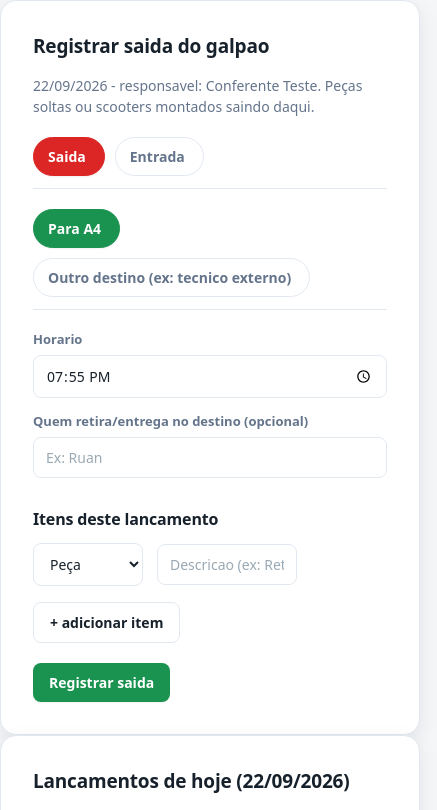
Test case: Montagem - montagem so pra veiculo inteiro › categoria de veiculo mostra montagem sem placeholder, comecando em "Em caixa"
The width and height of the screenshot is (437, 810).
Select "Scooter" in the dropdown at (88, 564), box x1=33 y1=543 x2=143 y2=586
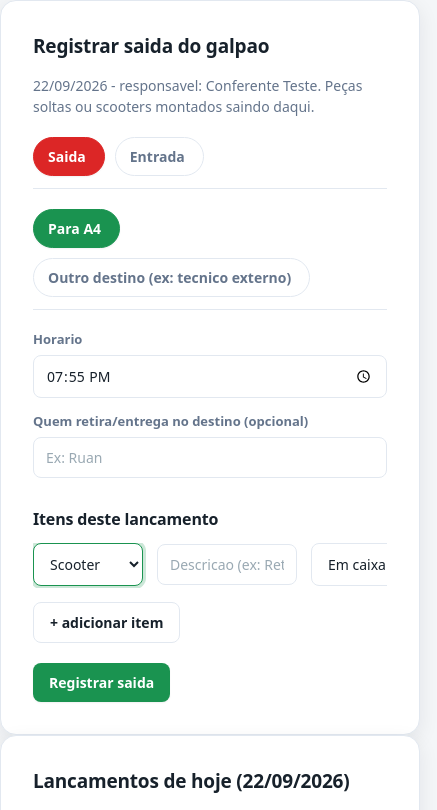
Expected: the 2nd dropdown shows "Em caixa", x1=311 y1=543 x2=387 y2=586
